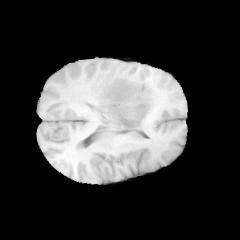glioma: (97, 79, 156, 127)
